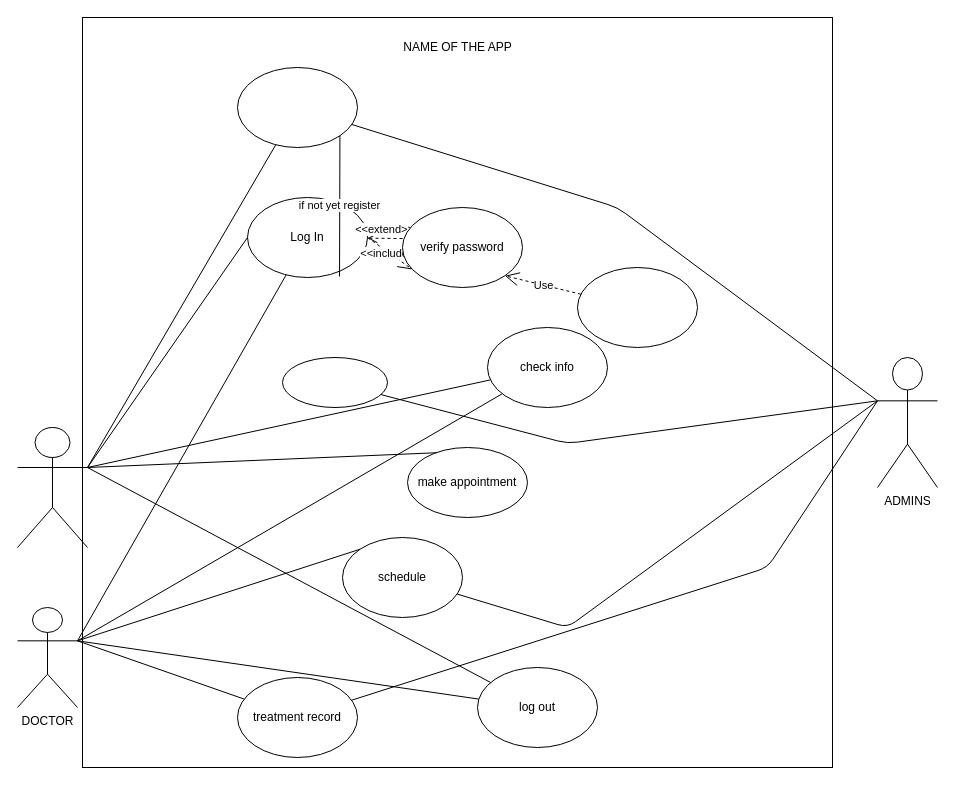
This 955x785 diagram has some shape labels left out. The shapes that lost their labels are listed below. From the top down, each one's box as (x1, y1, x2, y2) in pixels, then its label:
(236, 66, 358, 148): Register
(576, 266, 698, 348): wrong password
(282, 356, 388, 408): edit info
(16, 426, 88, 548): PATIENT
